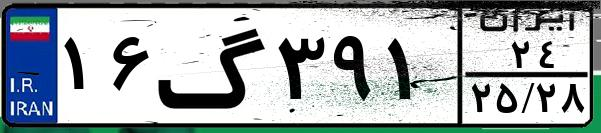1: (385, 28, 445, 110), (57, 26, 110, 100)
2: (508, 27, 537, 80), (470, 70, 495, 125), (535, 70, 560, 125)
3: (270, 28, 330, 110)
4: (537, 27, 568, 80)
5: (495, 70, 520, 125)
6: (110, 28, 156, 98)
8: (560, 70, 590, 125)
9: (330, 28, 385, 110)
گ: (156, 12, 270, 120)
